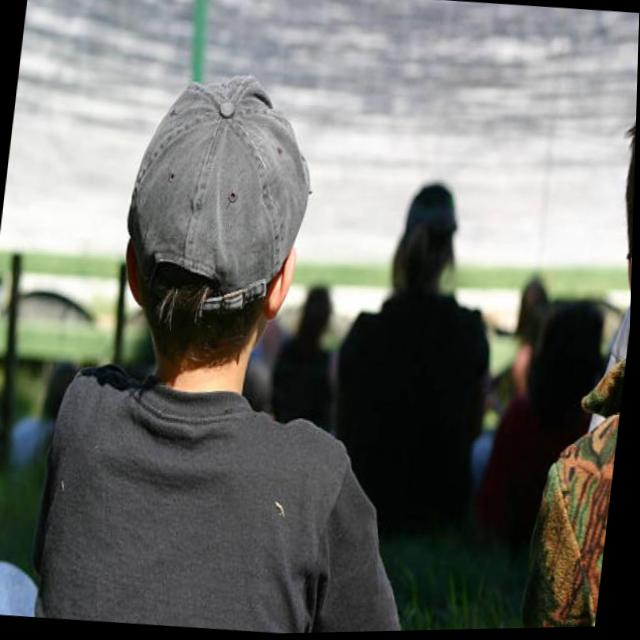no helmet: (83, 26, 352, 424)
